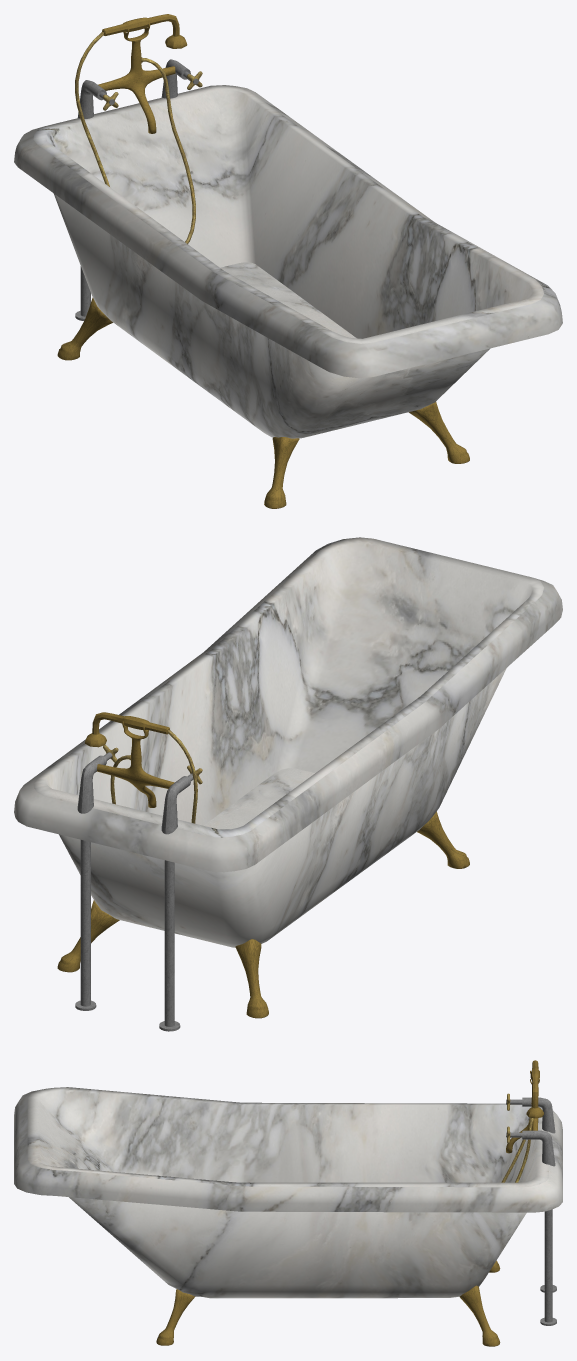
The model's file is Bañera.fbx.
3 views of the same model, one above another, from view 1: azimuth 30°, elevation 25°; view 2: azimuth 150°, elevation 25°; view 3: azimuth 270°, elevation 25° (orthographic). The views are drawn at different scales.
Parts seen in each view (by area): view 1: Bañera.005, Bañera.008, Bañera.002, Tuberias, Bañera.006, Bañera.003; view 2: Bañera.005, Tuberias, Bañera.008, Bañera.002, Bañera.003, Bañera.006; view 3: Bañera.005, Tuberias, Bañera.008, Bañera.003, Bañera.006.
Boxes of the visible parts, bbox=[...] form: Bañera.005: bbox=[14, 85, 562, 438]; Bañera.008: bbox=[57, 297, 469, 508]; Bañera.002: bbox=[98, 23, 175, 133]; Tuberias: bbox=[75, 59, 198, 320]; Bañera.006: bbox=[75, 31, 195, 243]; Bañera.003: bbox=[102, 14, 187, 48]; Bañera.005: bbox=[14, 537, 562, 947]; Tuberias: bbox=[75, 752, 193, 1031]; Bañera.008: bbox=[57, 811, 469, 1018]; Bañera.002: bbox=[97, 721, 174, 807]; Bañera.003: bbox=[85, 712, 169, 747]; Bañera.006: bbox=[110, 729, 197, 823]; Bañera.005: bbox=[14, 1087, 562, 1298]; Tuberias: bbox=[506, 1097, 556, 1325]; Bañera.008: bbox=[156, 1260, 500, 1346]; Bañera.003: bbox=[526, 1060, 543, 1118]; Bañera.006: bbox=[501, 1117, 533, 1182].
Bounding box in the file's own units: 10995 × 13005 × 27523.
